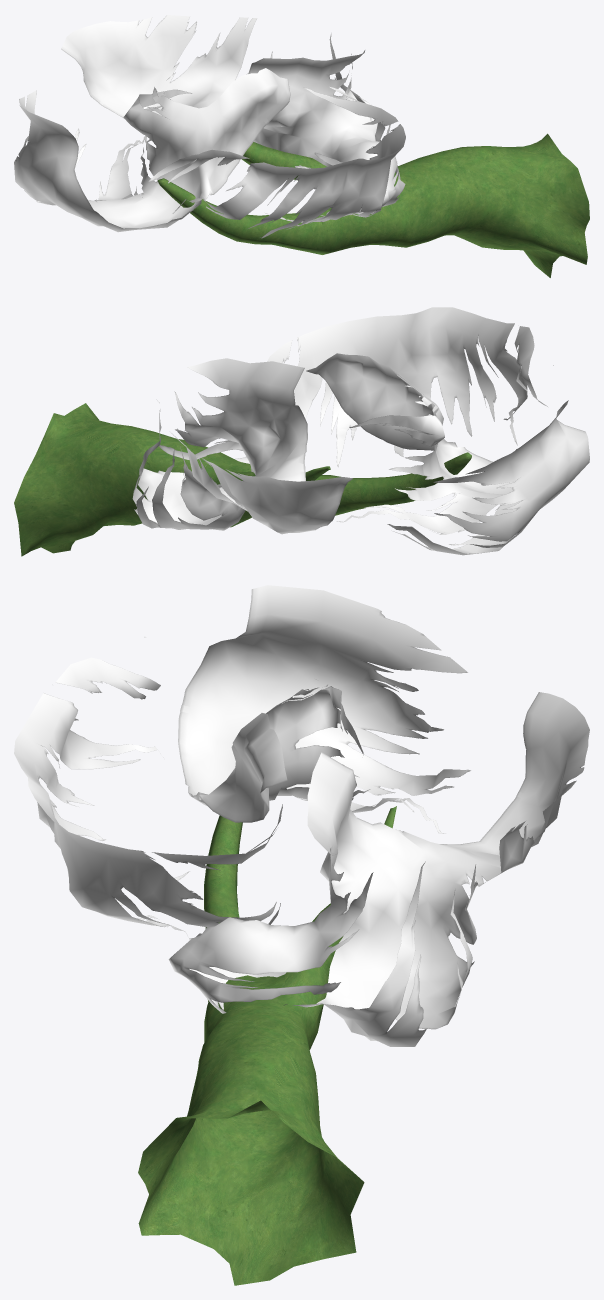
The model's file is SM_ENV_KNFRST_Leaf_H.FBX.
3 renders of one model, top to bottom at view 1: azimuth 30°, elevation 25°; view 2: azimuth 150°, elevation 25°; view 3: azimuth 270°, elevation 25°, orthographic. The views are drawn at different scales.
Parts seen in each view (by area): view 1: SM_ENV_KNFRST_Leaf_H; view 2: SM_ENV_KNFRST_Leaf_H; view 3: SM_ENV_KNFRST_Leaf_H.
Boxes of the visible parts, x1=… form: SM_ENV_KNFRST_Leaf_H: x1=14, y1=15, x2=589, y2=277; SM_ENV_KNFRST_Leaf_H: x1=14, y1=307, x2=589, y2=556; SM_ENV_KNFRST_Leaf_H: x1=14, y1=585, x2=589, y2=1285.
Bounding box in the file's own units: 4218 × 2144 × 3009.
